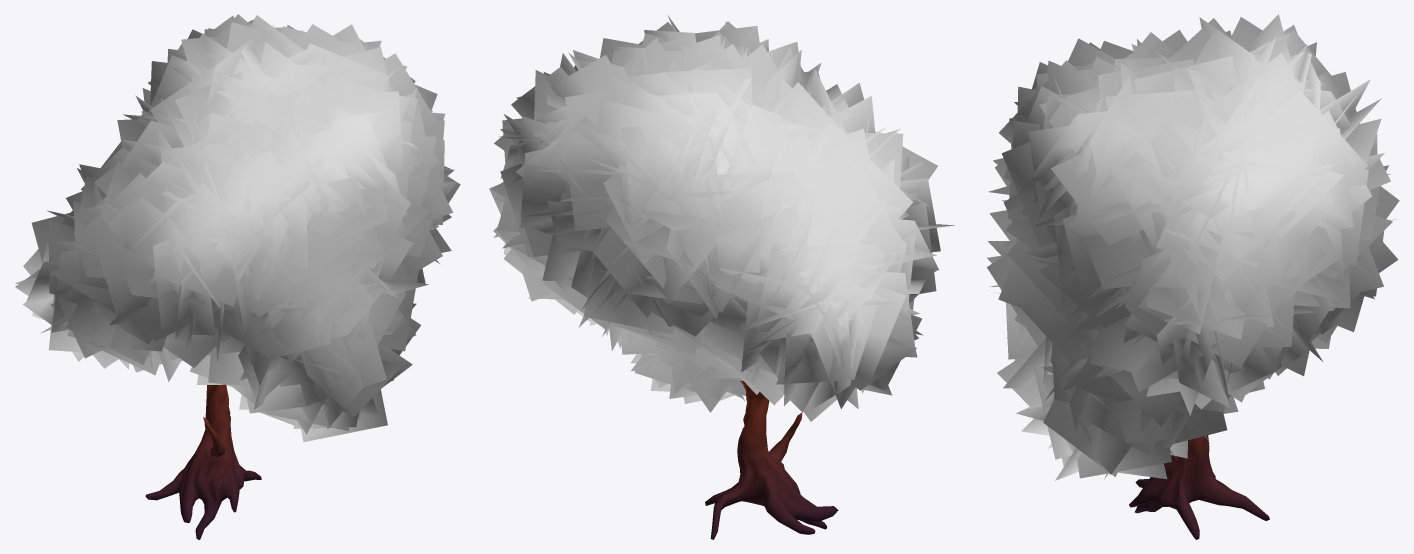
The model's file is simple_tree_1.fbx.
3 renders of one model, left to right at view 1: azimuth 30°, elevation 25°; view 2: azimuth 150°, elevation 25°; view 3: azimuth 270°, elevation 25°, orthographic. The views are drawn at different scales.
Parts seen in each view (by area): view 1: 1 canopy_cards_LOD0, 1 trunk; view 2: 1 canopy_cards_LOD0, 1 trunk; view 3: 1 canopy_cards_LOD0, 1 trunk.
Boxes of the visible parts, box(x1,y1,x2,y2) form: 1 canopy_cards_LOD0: box(15, 14, 460, 442); 1 trunk: box(145, 384, 261, 539); 1 canopy_cards_LOD0: box(489, 15, 954, 421); 1 trunk: box(705, 380, 838, 539); 1 canopy_cards_LOD0: box(987, 14, 1399, 480); 1 trunk: box(1129, 435, 1269, 539).
Size of what is drawn, in the model's own units: 1318 by 1449 by 1027.
